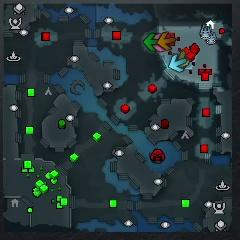x1: (152, 34, 163, 52)
x2: (179, 50, 190, 67)
x3: (169, 55, 186, 72)
x4: (143, 33, 159, 52)
x5: (157, 33, 175, 49)
